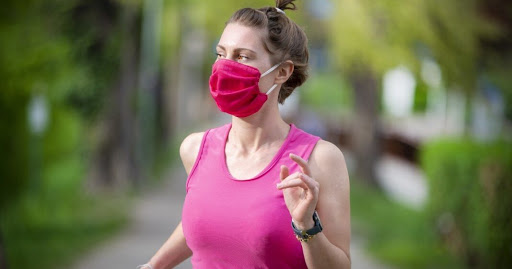barbijo: (204, 54, 277, 117)
